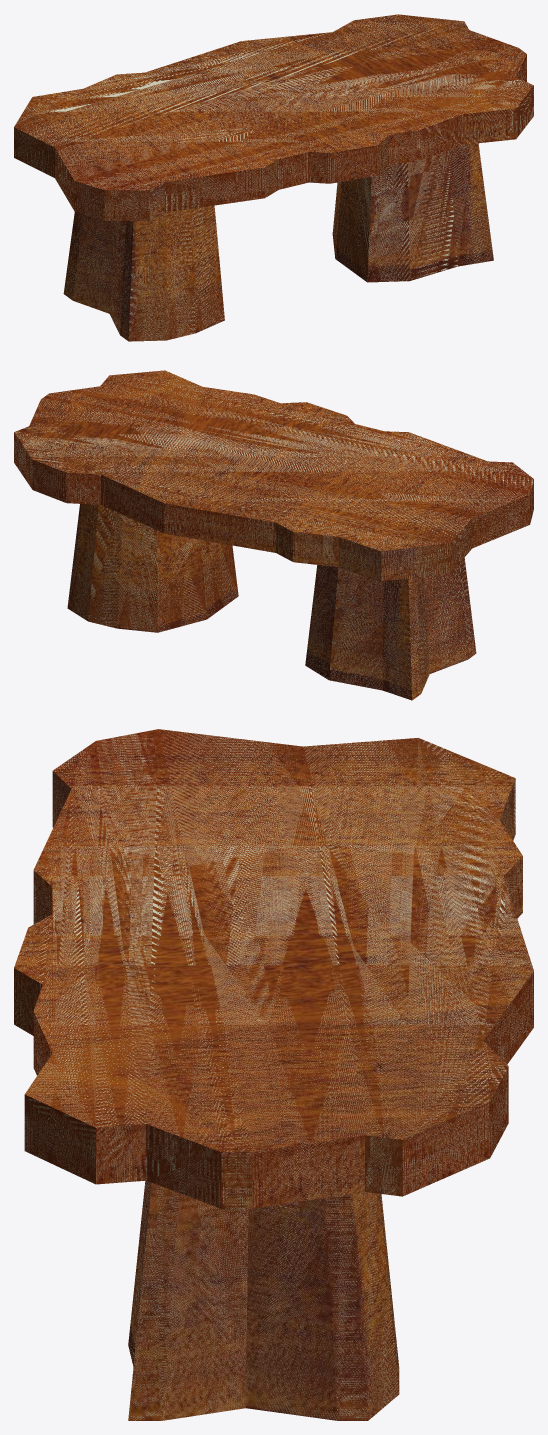
3 renders of one model, top to bottom at view 1: azimuth 30°, elevation 25°; view 2: azimuth 150°, elevation 25°; view 3: azimuth 270°, elevation 25°, orthographic. The views are drawn at different scales.
Visible parts, largest first — view 1: mesh1_mesh1-geometry, mesh2_mesh2-geometry; view 2: mesh1_mesh1-geometry, mesh2_mesh2-geometry; view 3: mesh1_mesh1-geometry, mesh2_mesh2-geometry.
Boxes of the visible parts, <box> form: mesh1_mesh1-geometry: <box>14,14,533,221</box>; mesh2_mesh2-geometry: <box>63,143,493,341</box>; mesh1_mesh1-geometry: <box>14,370,533,581</box>; mesh2_mesh2-geometry: <box>67,504,476,700</box>; mesh1_mesh1-geometry: <box>14,729,533,1208</box>; mesh2_mesh2-geometry: <box>128,1180,399,1420</box>.
Bounding box in the file's own units: 0.8466 × 0.2998 × 0.4398.
